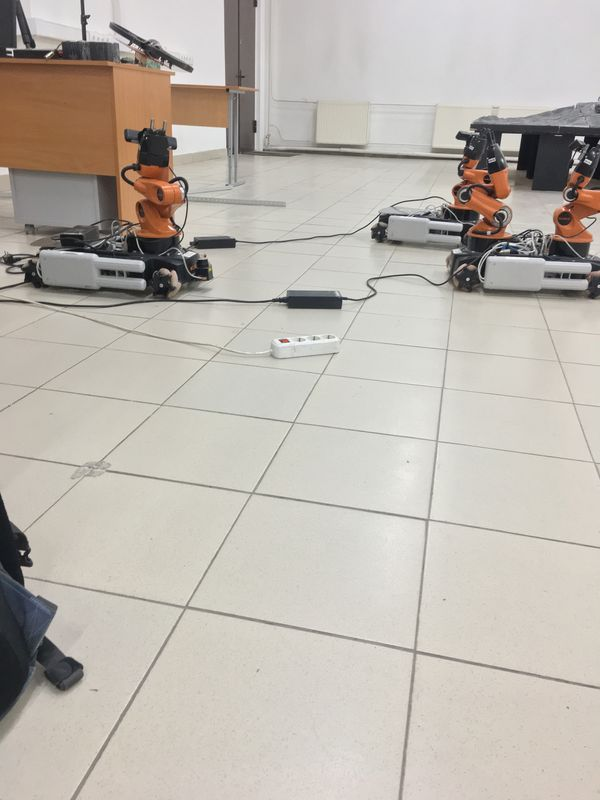socket: (266, 328, 345, 362)
